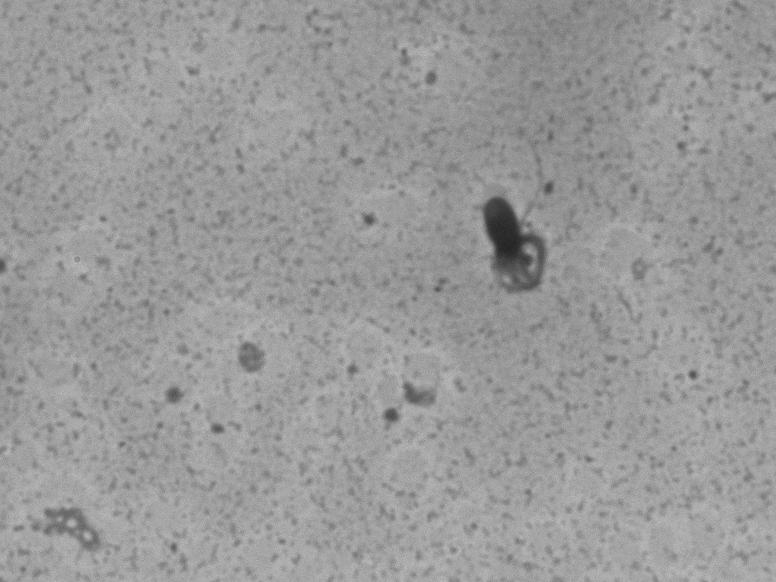Abnormal: (446, 141, 615, 310)
